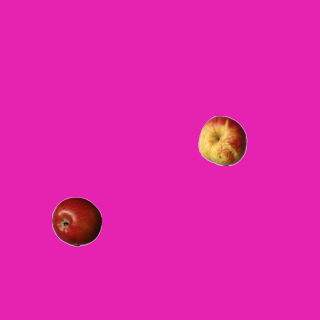Apple Braeburn: (51, 196, 101, 246)
Apple Red Yellow 1: (197, 115, 247, 165)
